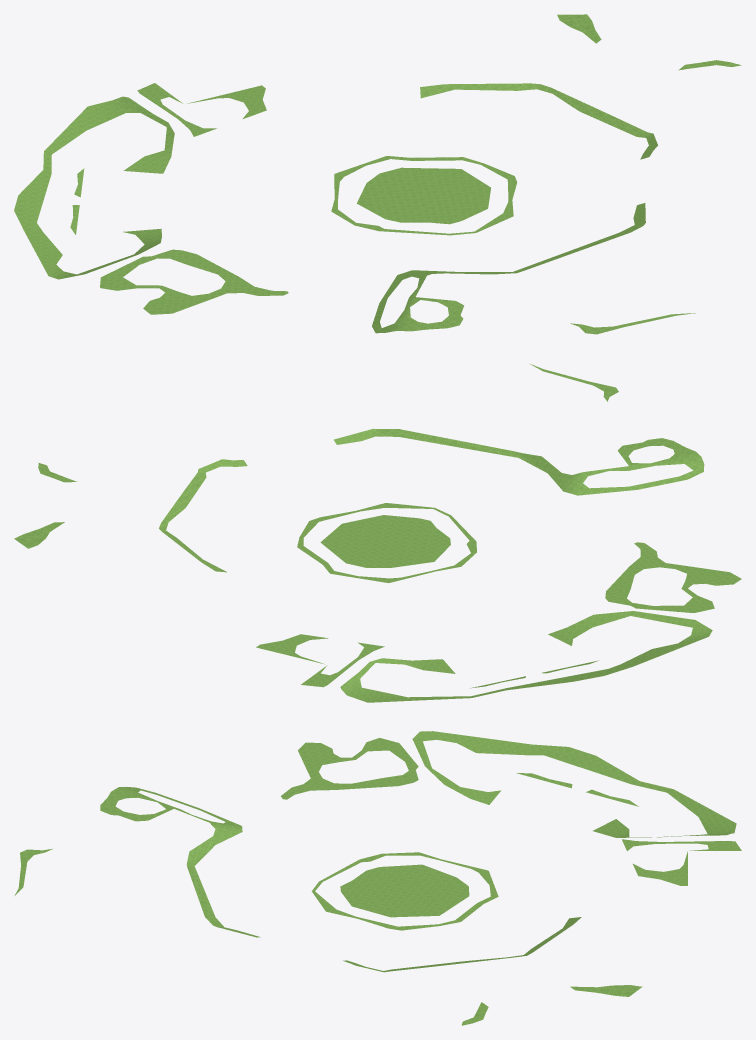
The model's file is kd_stage_136599_18_15.glb.
The picture shows the model from 3 angles, top to bottom: view 1: azimuth 30°, elevation 25°; view 2: azimuth 150°, elevation 25°; view 3: azimuth 270°, elevation 25°; orthographic projection. The views are drawn at different scales.
Parts seen in each view (by area): view 1: kd_stage_136599_18_15; view 2: kd_stage_136599_18_15; view 3: kd_stage_136599_18_15.
Boxes of the visible parts, left/top/right/bottom form: kd_stage_136599_18_15: left=14, top=14, right=741, bottom=334; kd_stage_136599_18_15: left=14, top=363, right=741, bottom=702; kd_stage_136599_18_15: left=14, top=731, right=741, bottom=1025.
Bounding box in the file's own units: 41.9 × 2.06 × 40.4.
Materials: 1 (1 with a texture image).
